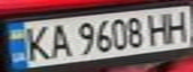0: (109, 16, 130, 52)
6: (93, 17, 115, 53)
8: (124, 14, 148, 48)
9: (72, 19, 96, 56)
A: (45, 20, 72, 60)
H: (163, 7, 193, 44), (145, 10, 172, 46)
K: (18, 23, 54, 62)
